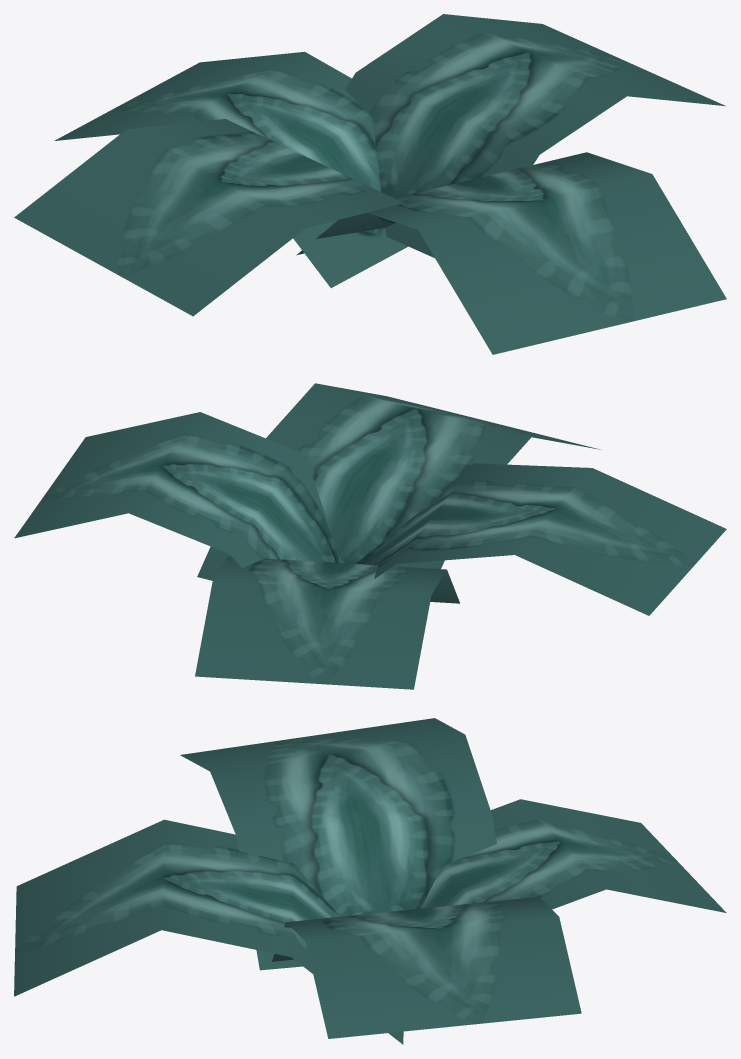
The model's file is grass_pant_02.fbx.
3 views of the same model, one above another, from view 1: azimuth 30°, elevation 25°; view 2: azimuth 150°, elevation 25°; view 3: azimuth 270°, elevation 25° (orthographic). The views are drawn at different scales.
Parts seen in each view (by area): view 1: grass_pant_02; view 2: grass_pant_02; view 3: grass_pant_02.
Part boxes in pixels (bbox=[...]): grass_pant_02: bbox=[14, 14, 726, 354]; grass_pant_02: bbox=[14, 383, 726, 689]; grass_pant_02: bbox=[14, 718, 726, 1044].
Size of the model in its own units: 1.45 by 0.2899 by 1.4.
